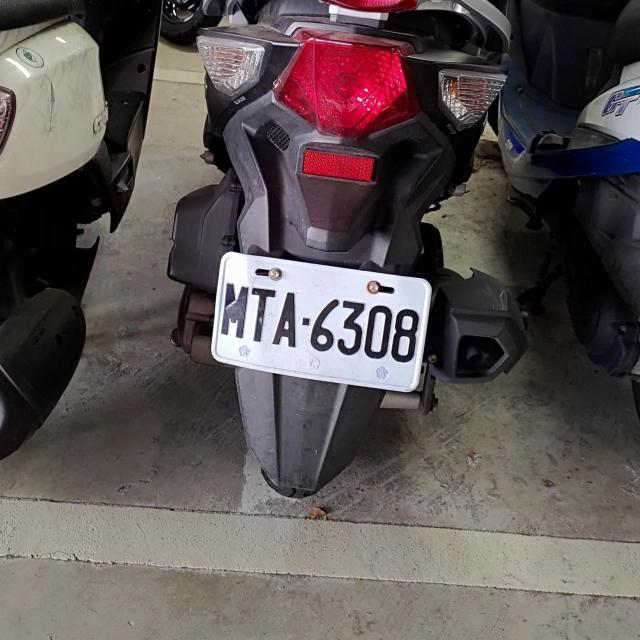W: (207, 250, 434, 392)
